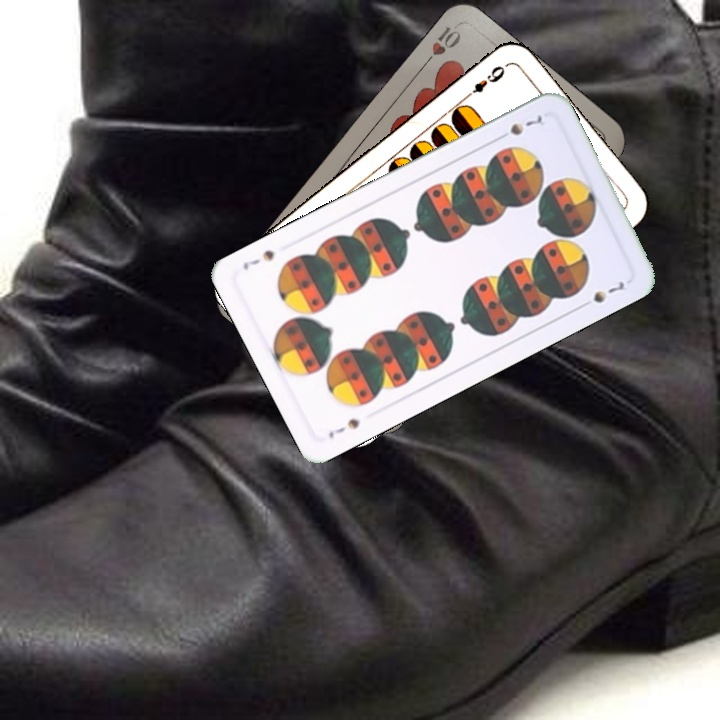E9: (459, 61, 509, 103)
H10: (417, 22, 464, 71)
S7: (492, 111, 545, 143), (324, 414, 363, 441)
